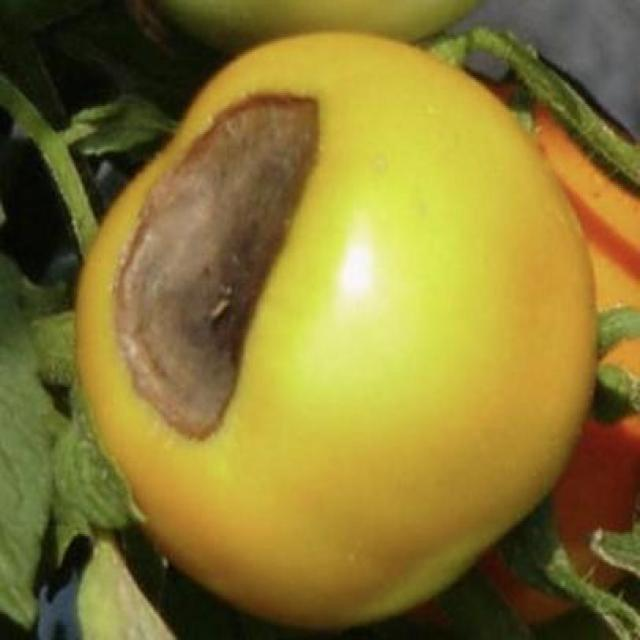Blossom End Rot Fruit: (68, 58, 216, 294)
